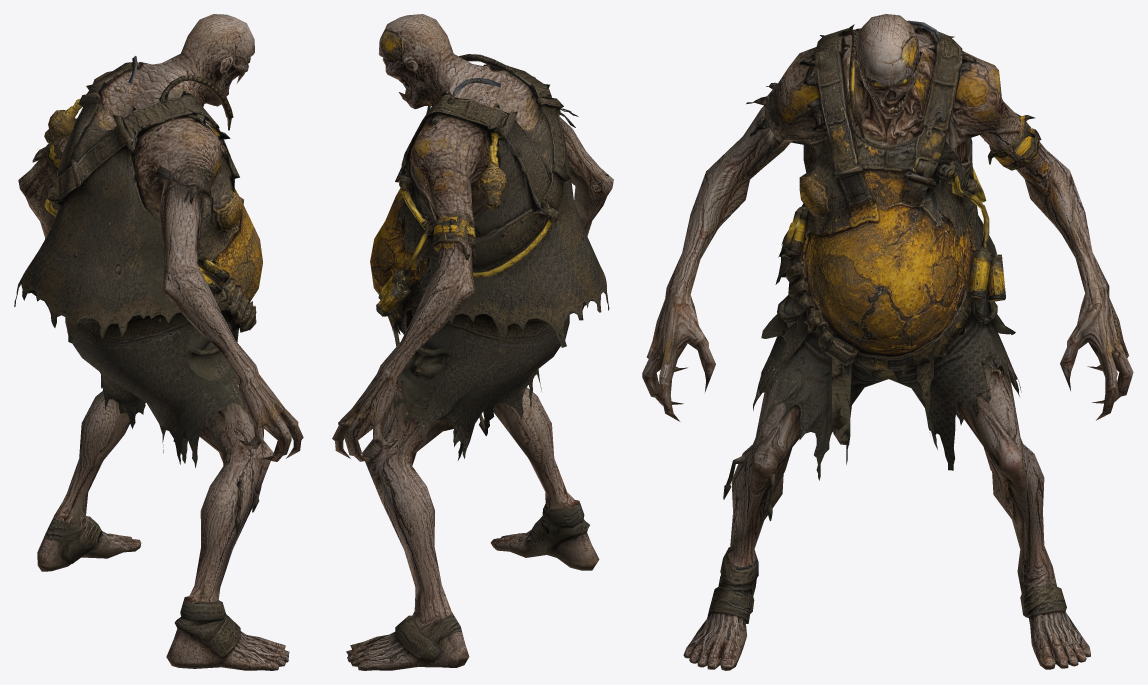
The model's file is tripo_convert_bd34e596-ed38-44af-8927-cb951749fd9c.fbx.
3 views of the same model, side by side, from view 1: azimuth 30°, elevation 25°; view 2: azimuth 150°, elevation 25°; view 3: azimuth 270°, elevation 25° (orthographic). The views are drawn at different scales.
Visible parts, largest first — view 1: tripo_node_bd34e596; view 2: tripo_node_bd34e596; view 3: tripo_node_bd34e596.
Boxes of the visible parts, bbox=[...] form: tripo_node_bd34e596: bbox=[14, 14, 303, 670]; tripo_node_bd34e596: bbox=[332, 14, 613, 670]; tripo_node_bd34e596: bbox=[642, 14, 1133, 670].
Bounding box in the file's own units: 0.3926 × 0.998 × 0.6777.
1 material, 1 textured.
